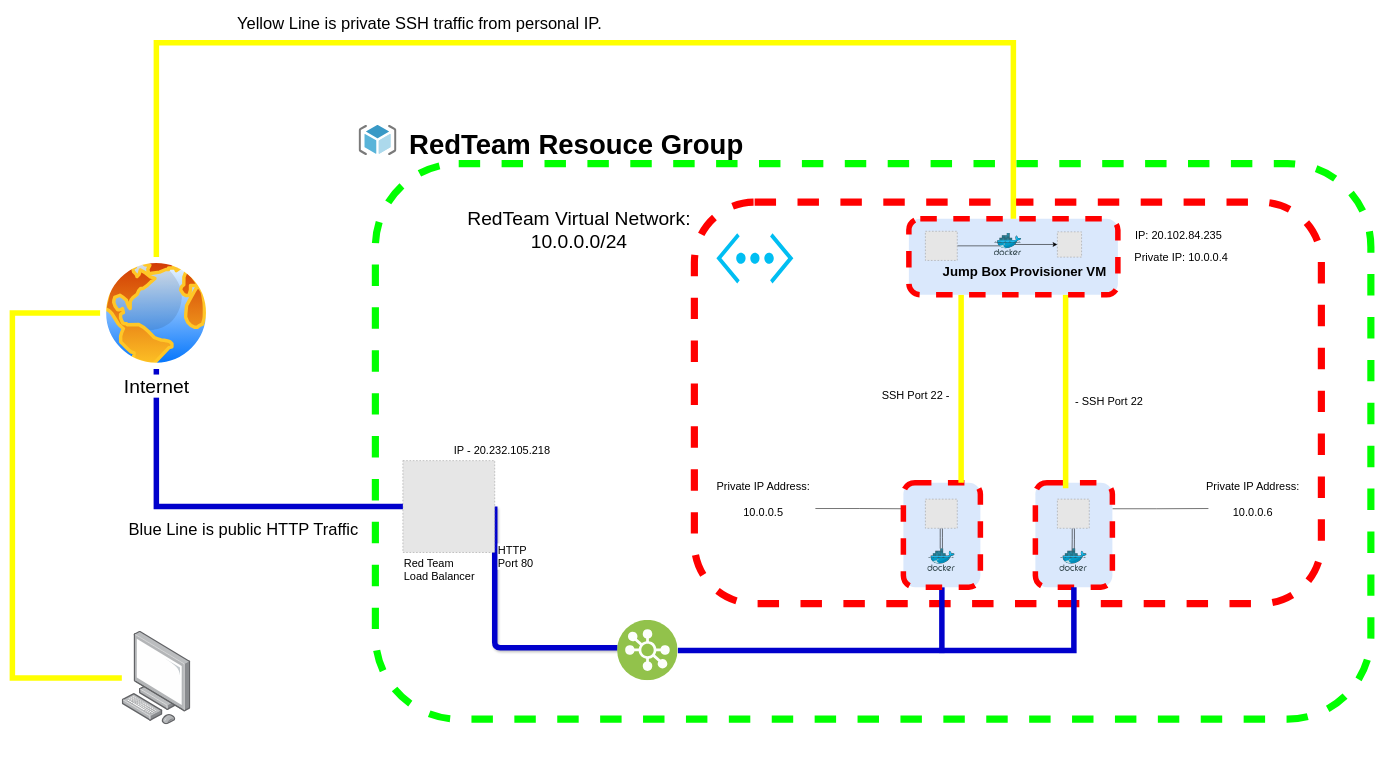
The diagram is 1384 pixels wide and 761 high, and some of its shapes have lost their labels. Grey dashed boxes stand in for pictures. The shapes that lost their labels are listed below. From the top down, each one's centre as x and y in pixels, then its label:
At pixel 647 650: "BackEnd Pool".
At pixel 156 677: "Personal PC".
